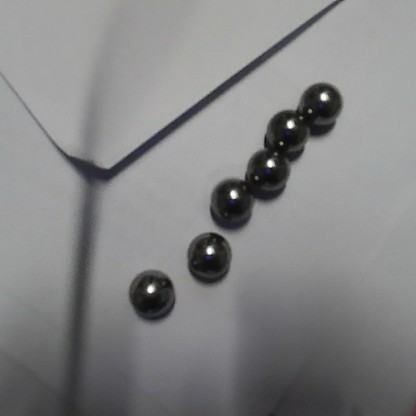ironball: (128, 270, 176, 317), (245, 147, 287, 192), (188, 232, 228, 279), (210, 177, 250, 223), (302, 80, 342, 121), (266, 111, 305, 149)
